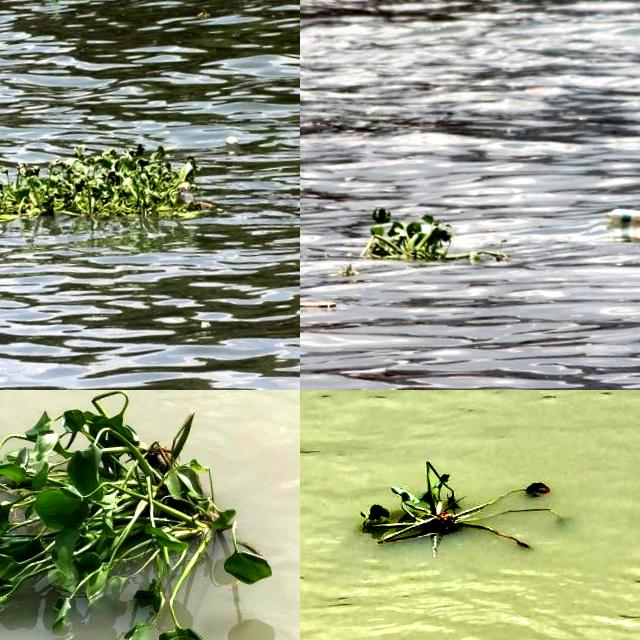water-hyacinth: (2, 391, 275, 640), (352, 443, 561, 571), (1, 139, 206, 244), (357, 205, 493, 261)
